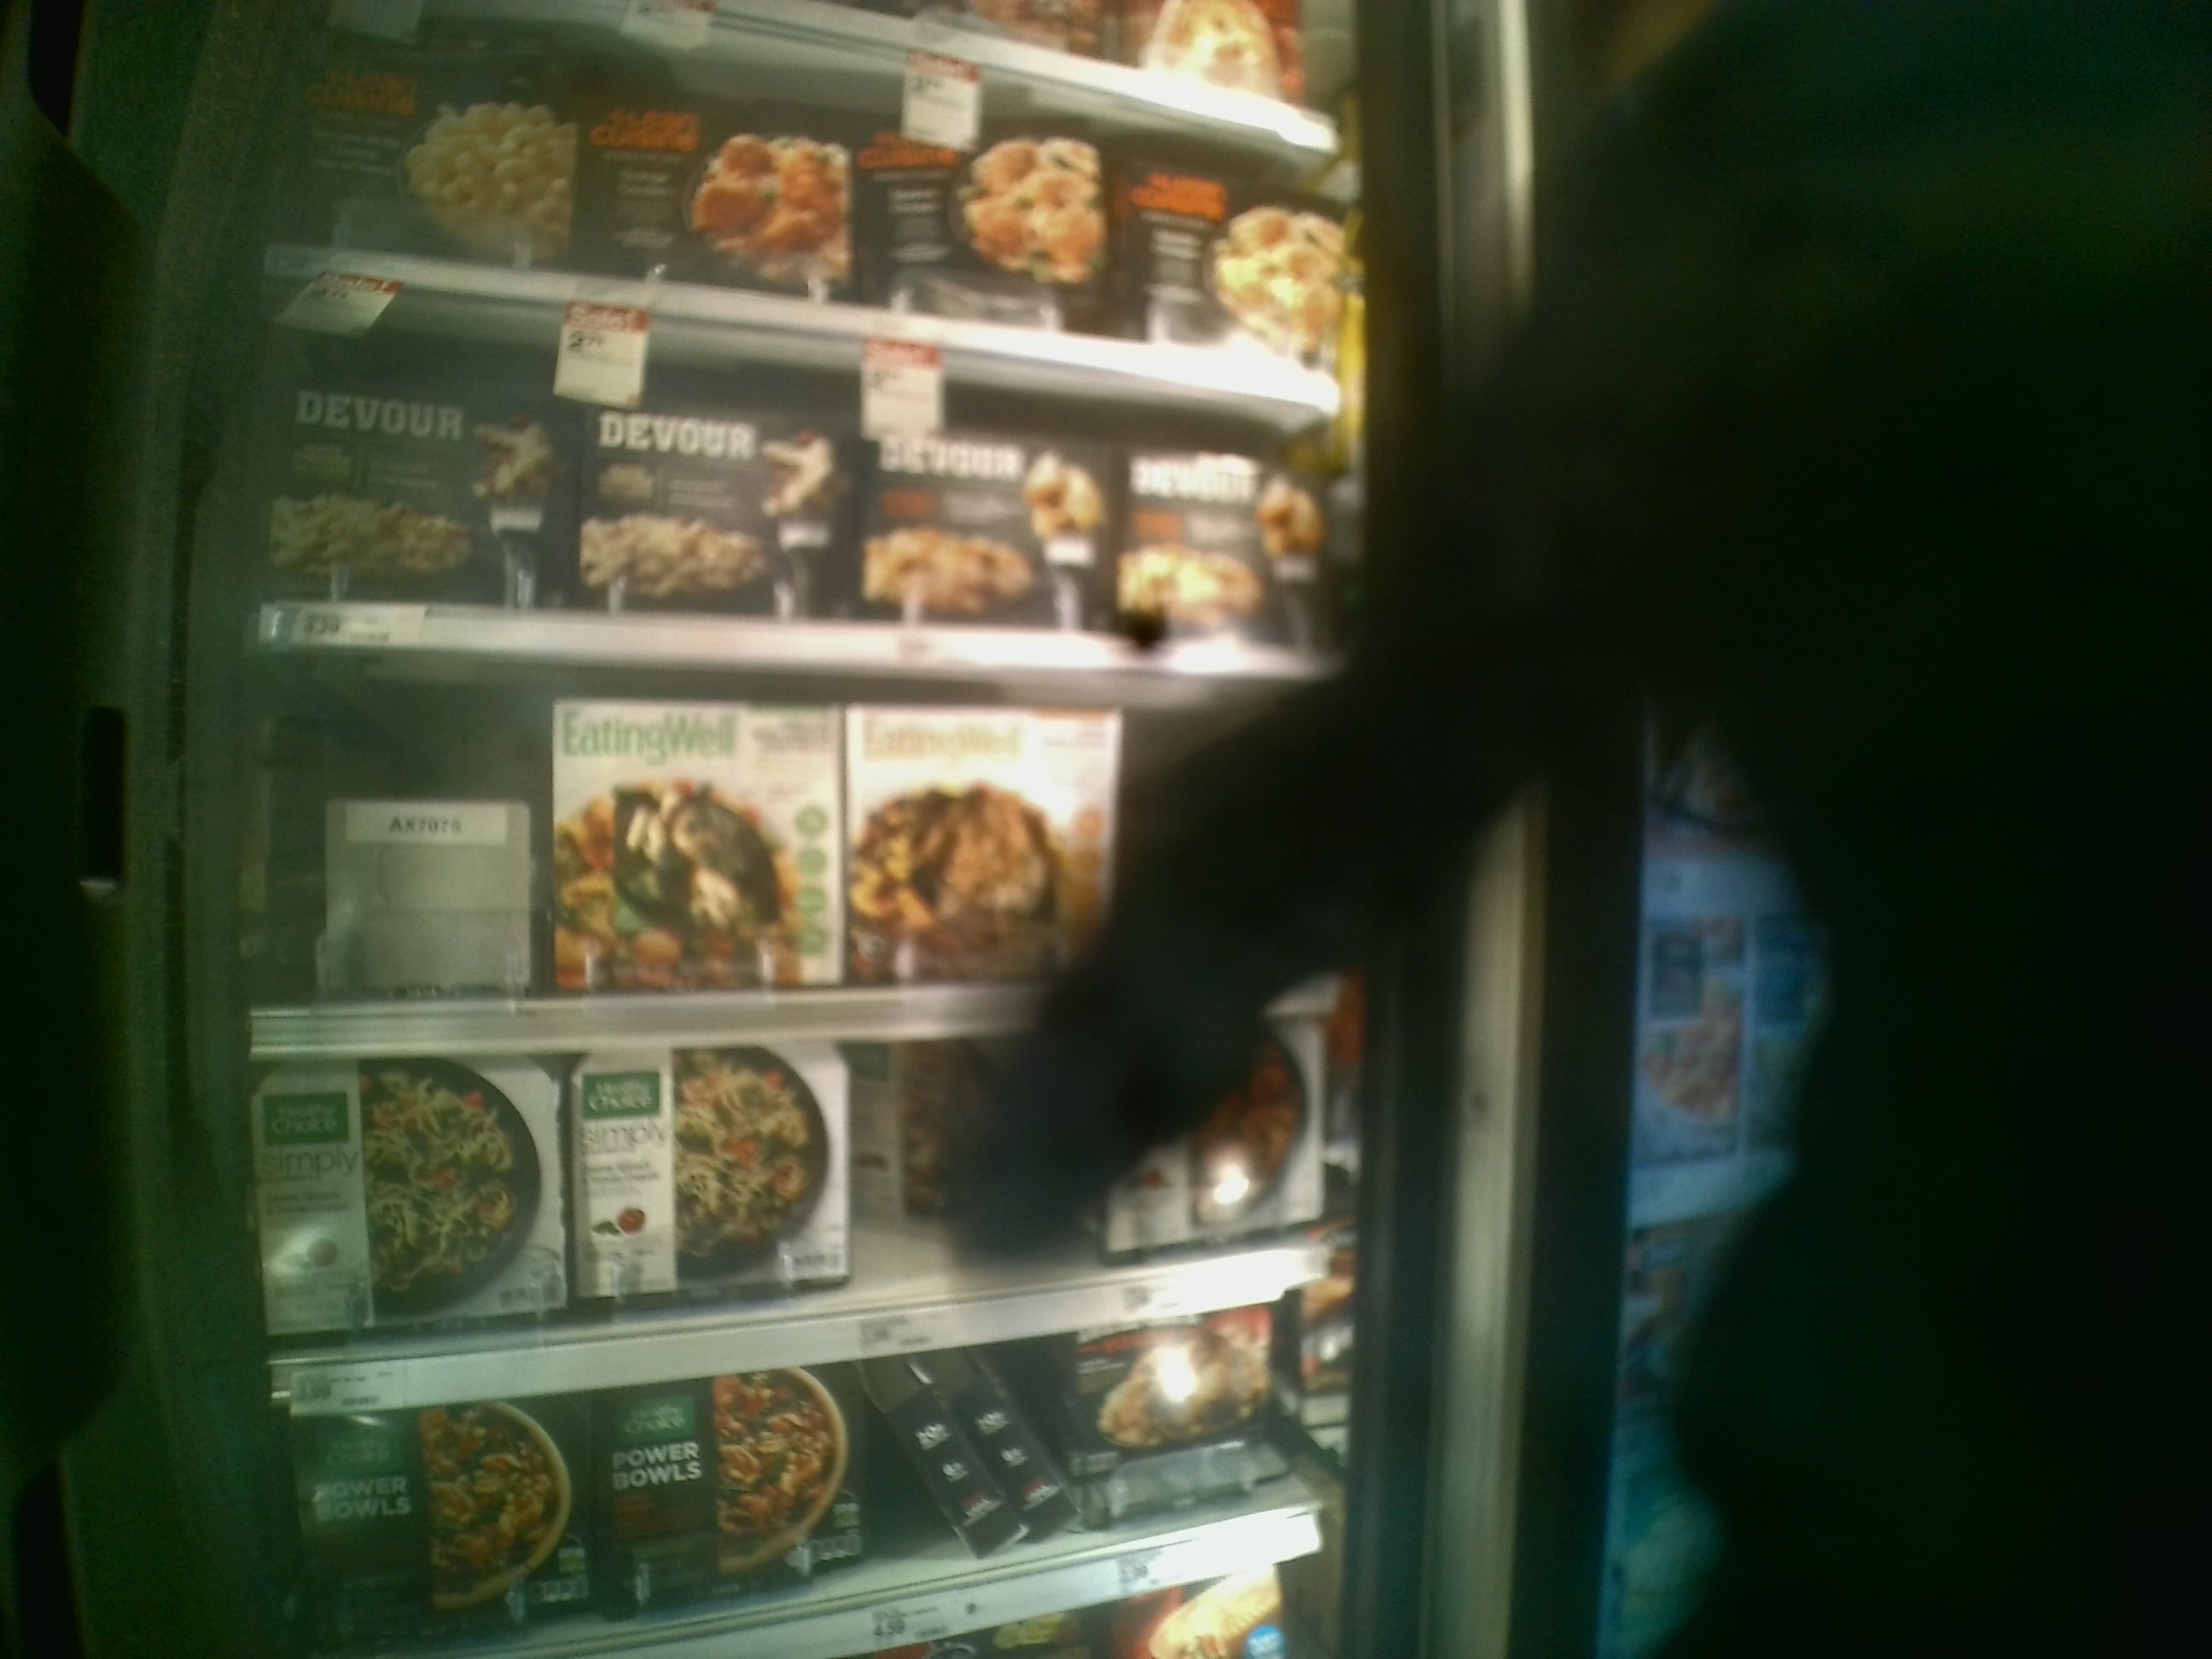shelf: (263, 284, 1355, 671)
